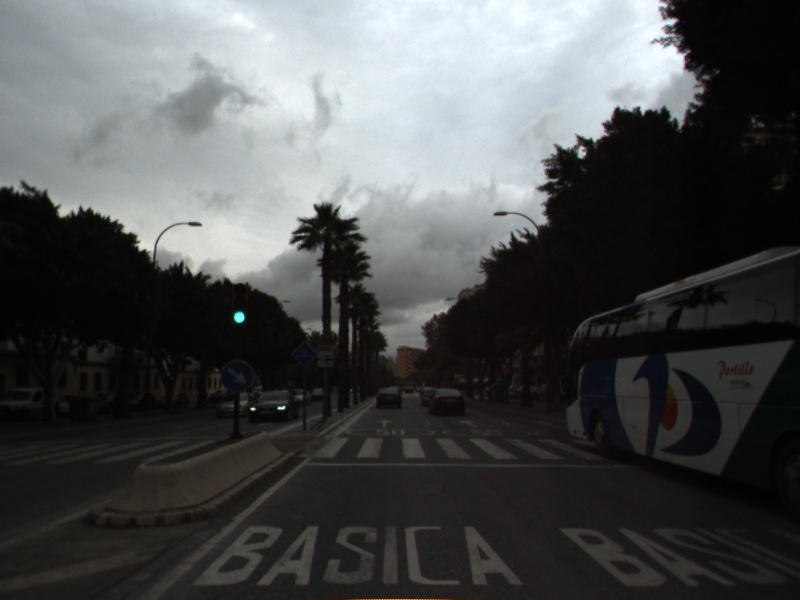STRAIGHT: (457, 417, 481, 430), (375, 417, 396, 430)
